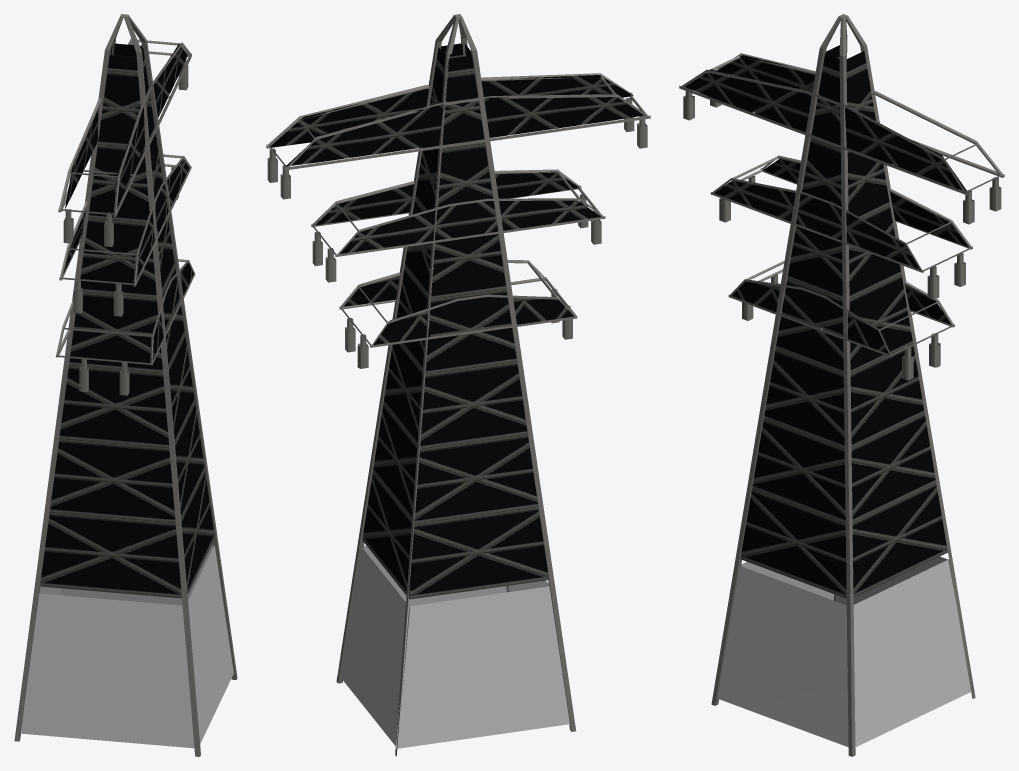
The model's file is Big_ElectricPoles.FBX.
3 renders of one model, left to right at view 1: azimuth 30°, elevation 25°; view 2: azimuth 150°, elevation 25°; view 3: azimuth 270°, elevation 25°, orthographic.
Visible parts, largest first — view 1: Big_ElectricPoles_With_Wires__38_; view 2: Big_ElectricPoles_With_Wires__38_; view 3: Big_ElectricPoles_With_Wires__38_.
Boxes of the visible parts, x1,y1,x2,y2 form: Big_ElectricPoles_With_Wires__38_: (14,14,237,756); Big_ElectricPoles_With_Wires__38_: (266,14,650,756); Big_ElectricPoles_With_Wires__38_: (679,14,1004,756).
Bounding box in the file's own units: 237 × 604 × 260.
